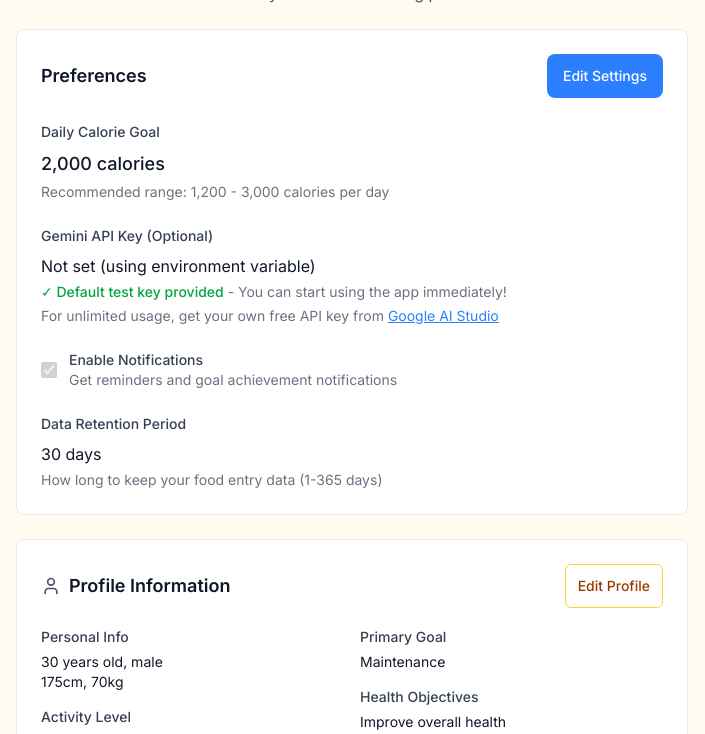
GoalSettings Profile Management › cancels edit mode when Cancel button is clicked
Click the button "Edit Profile".
click(614, 586)  # box left=565, top=564, right=663, bottom=608
(page scrolled)
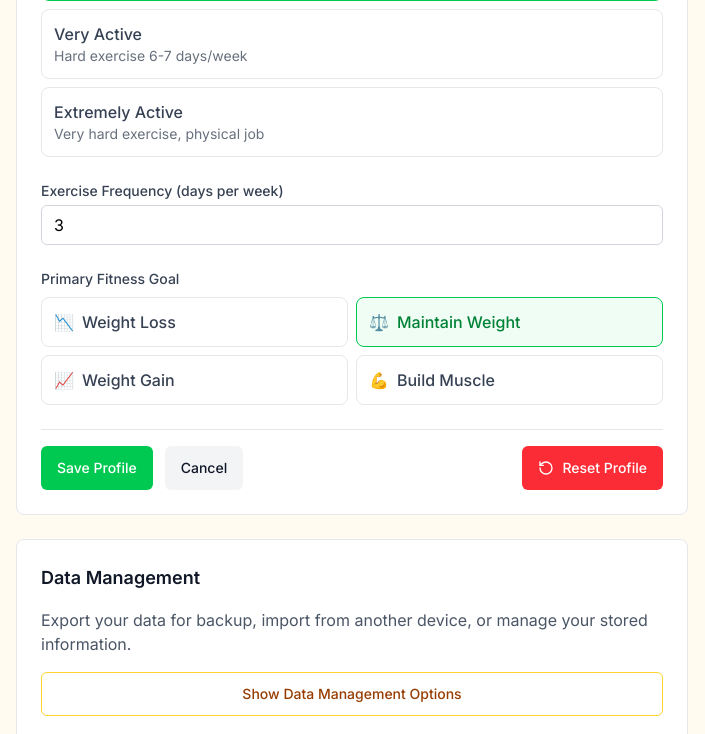
Click the button "Cancel".
click(204, 468)  # box left=165, top=446, right=243, bottom=490
(page scrolled)
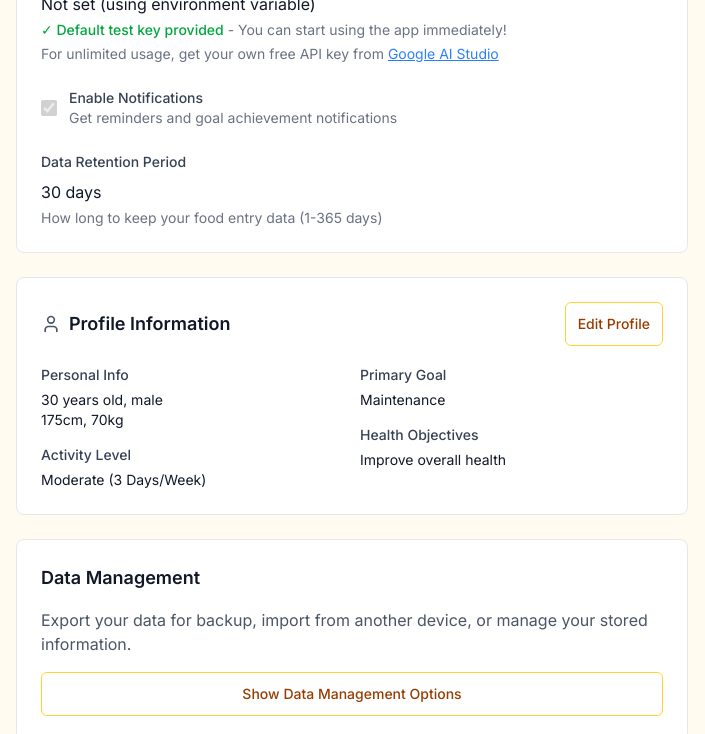
Check: the button "Edit Profile" is shown, box left=565, top=302, right=663, bottom=346
Check: the button "Save Profile" is gone
